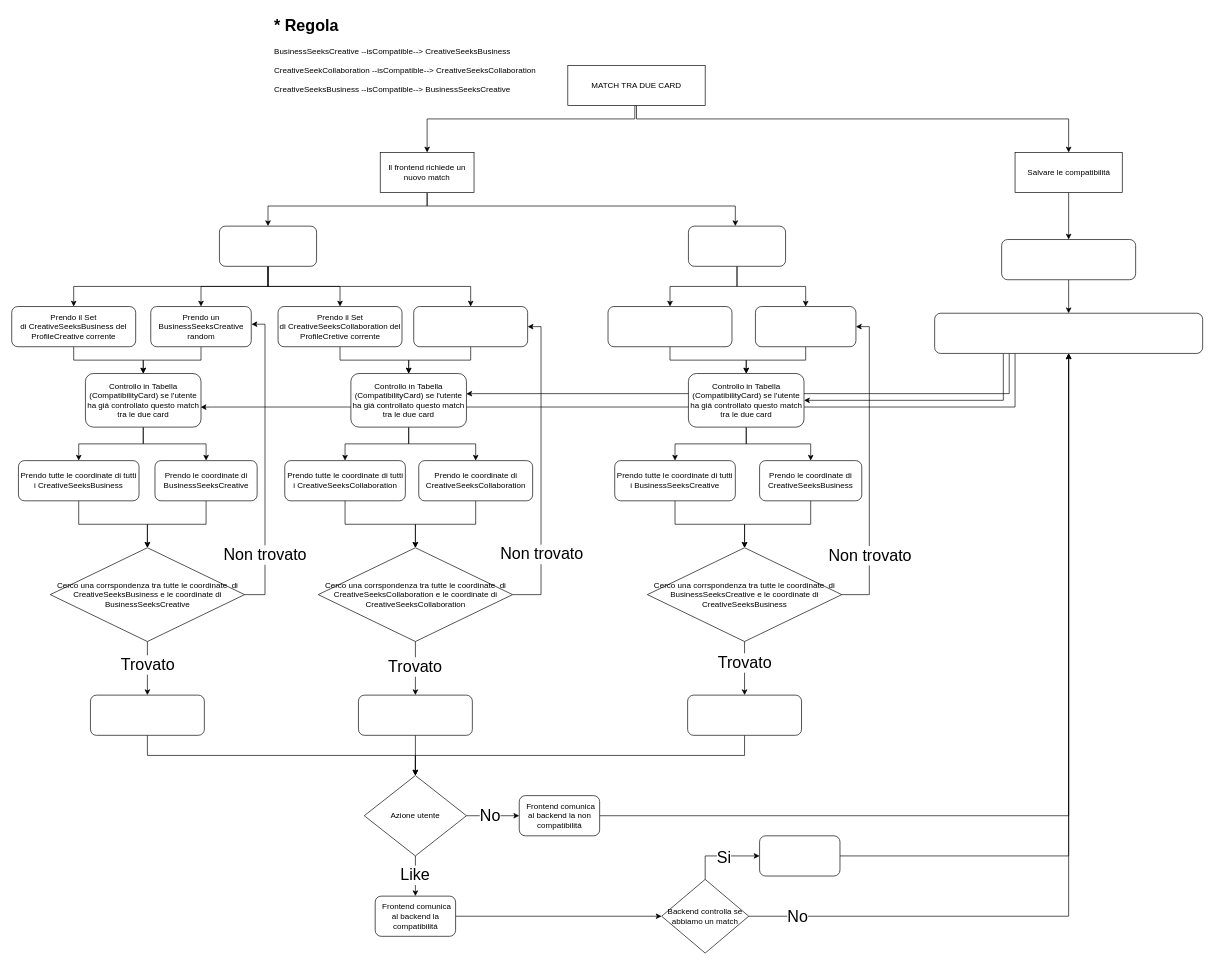
Some shapes in this 1215 by 965 pixel diagram are drawn without their labels. Here are the shapes that lost their labels. From the top down, the box of each, then its label:
(219, 225, 317, 266): Sono un ProfileCreative
(688, 225, 786, 266): Sono un ProfileBusiness
(1001, 239, 1136, 280): Crea una tabella (CompatibilityCard) dove salvo le compatibilitá
(413, 306, 528, 347): Prendo un CreativeSeeksCollaboration random
(607, 306, 732, 347): Prendo il Set di BusinessSeeksCreative del ProfileCreative corrente
(755, 306, 856, 347): Prendo un CreativeSeeksBusiness random
(934, 313, 1203, 353): [CompatibilityCard]: id, fromCardId, toCardId, isCompatible, timestamp
(90, 694, 204, 735): Invio al frontend il BusinessSeeksCreative
(358, 694, 472, 735): Invio al frontend il CreativeSeeksCollaboration
(687, 694, 802, 735): Invio al frontend il CreativeSeeksBusiness
(759, 835, 840, 876): Ritorno al frontend il Match positivo
